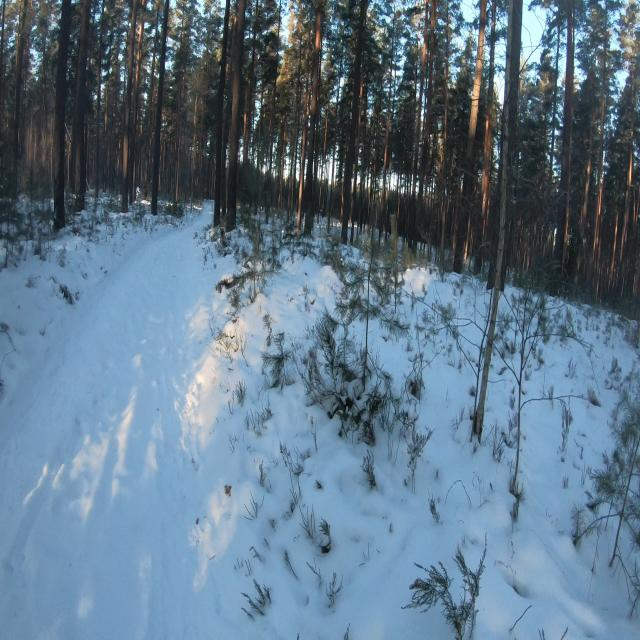bush: (298, 311, 392, 444), (580, 374, 640, 567), (336, 236, 408, 387), (403, 538, 486, 640), (625, 560, 640, 617)
trees: (473, 0, 522, 439), (341, 0, 366, 243), (555, 0, 574, 277), (225, 0, 245, 230), (303, 0, 322, 234), (70, 0, 91, 211), (480, 0, 496, 258), (592, 0, 608, 256), (411, 0, 428, 235), (54, 0, 71, 229), (418, 0, 436, 204), (152, 0, 169, 214), (214, 0, 230, 226), (121, 0, 138, 212), (12, 0, 29, 192), (467, 0, 486, 160), (620, 66, 635, 260), (94, 0, 105, 211), (580, 114, 594, 242), (440, 0, 449, 197), (173, 74, 183, 207), (381, 106, 393, 208), (278, 113, 288, 208), (440, 198, 448, 269), (193, 79, 199, 154), (391, 0, 395, 53), (191, 154, 195, 204), (389, 55, 393, 100), (180, 10, 184, 50), (379, 212, 385, 237)
